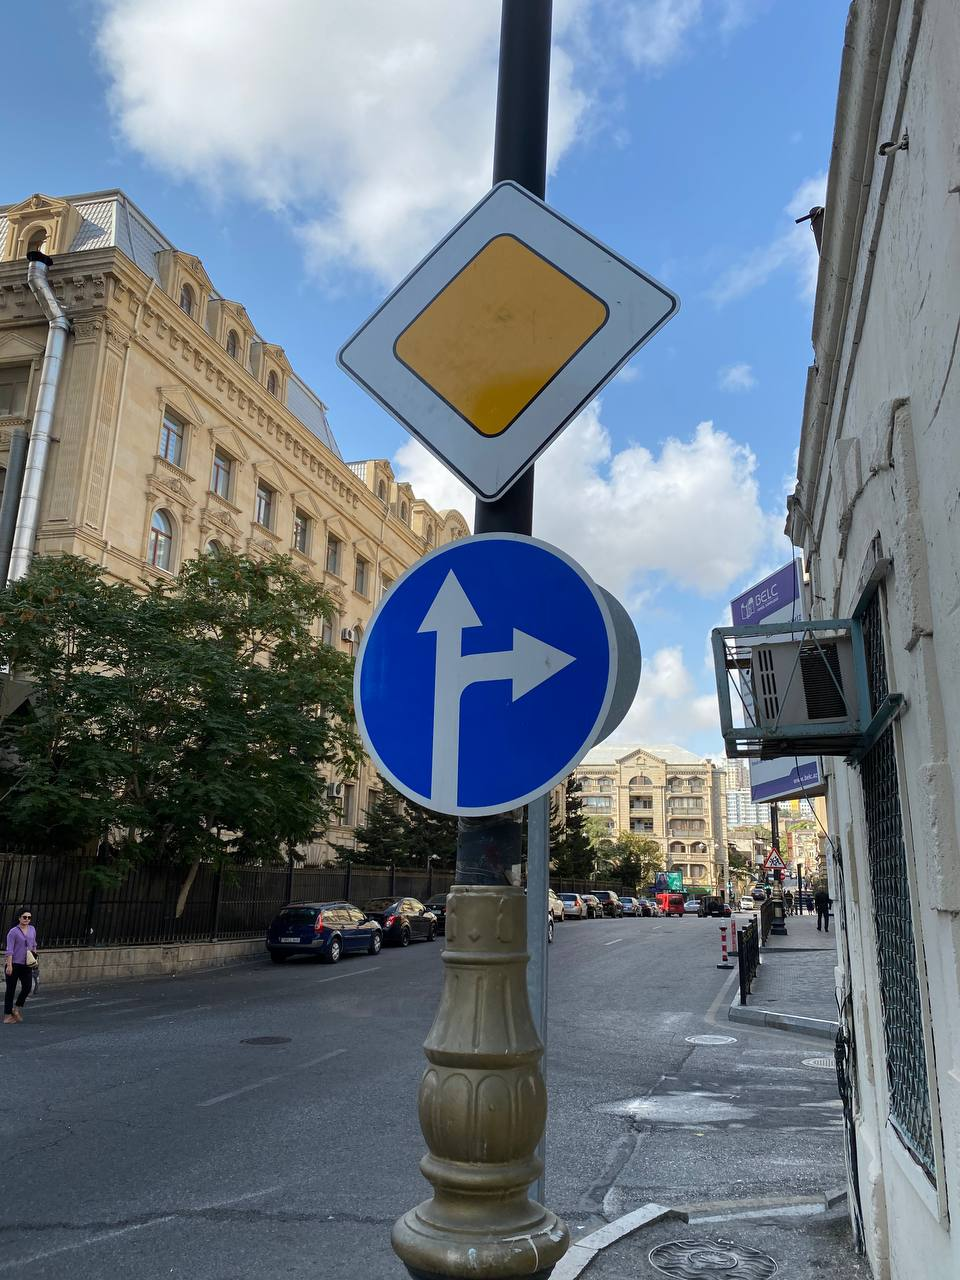Main Road: (336, 179, 682, 504)
Straight or Right: (351, 532, 620, 817)
